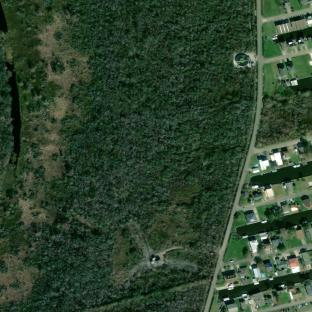Floresta: (23, 0, 259, 312), (257, 90, 312, 144), (0, 0, 0, 0)
